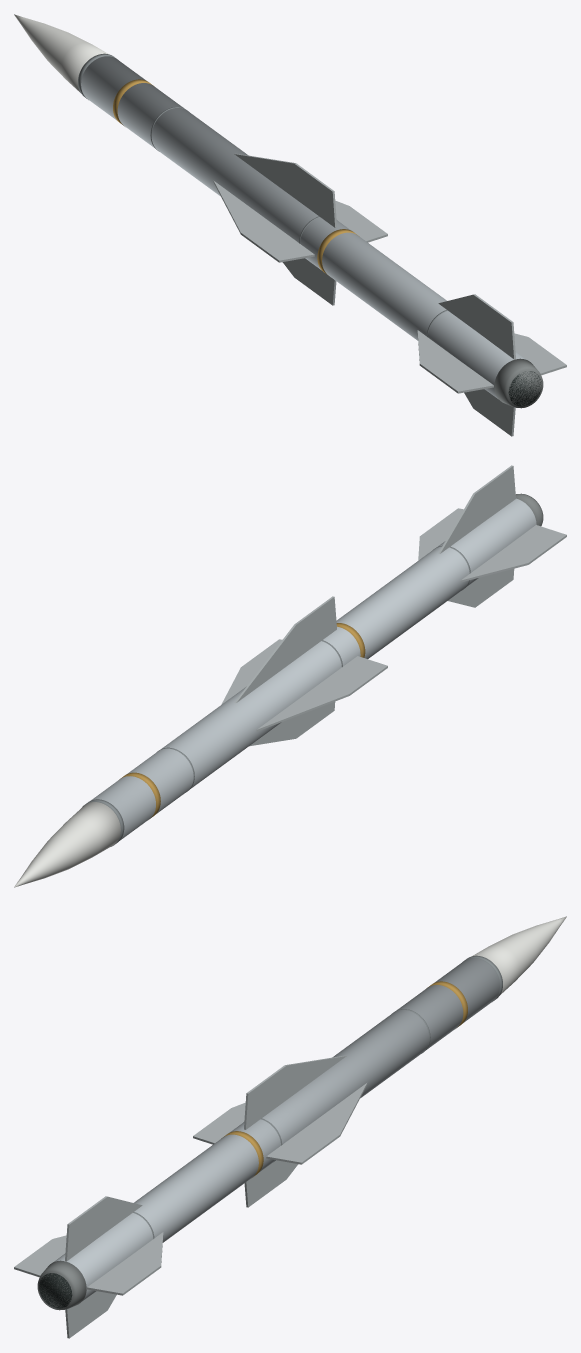
The model's file is aim120c.glb.
The picture shows the model from 3 angles, top to bottom: view 1: azimuth 30°, elevation 25°; view 2: azimuth 150°, elevation 25°; view 3: azimuth 330°, elevation 25°; orthographic projection.
Parts seen in each view (by area): view 1: static.paint, static.fin.paint, static.nose.shell, static.exterior.metal, static.dark.glass, static.illustrative.band; view 2: static.paint, static.fin.paint, static.nose.shell, static.illustrative.band, static.joint.grey; view 3: static.paint, static.fin.paint, static.nose.shell, static.exterior.metal, static.dark.glass, static.illustrative.band.
Boxes of the visible parts, bbox=[...] form: static.paint: bbox=[81, 56, 526, 399]; static.fin.paint: bbox=[213, 153, 566, 436]; static.nose.shell: bbox=[14, 14, 108, 92]; static.exterior.metal: bbox=[494, 358, 543, 408]; static.dark.glass: bbox=[508, 371, 541, 406]; static.illustrative.band: bbox=[113, 79, 359, 275]; static.paint: bbox=[91, 498, 536, 840]; static.fin.paint: bbox=[221, 465, 566, 746]; static.nose.shell: bbox=[14, 802, 120, 887]; static.illustrative.band: bbox=[119, 623, 365, 819]; static.joint.grey: bbox=[82, 545, 470, 846]; static.paint: bbox=[54, 958, 499, 1301]; static.fin.paint: bbox=[14, 1055, 367, 1338]; static.nose.shell: bbox=[472, 916, 566, 994]; static.exterior.metal: bbox=[37, 1260, 86, 1310]; static.dark.glass: bbox=[39, 1273, 72, 1308]; static.illustrative.band: bbox=[221, 981, 467, 1177].
Size of the model in its own units: 0.45 by 0.45 by 3.66.
